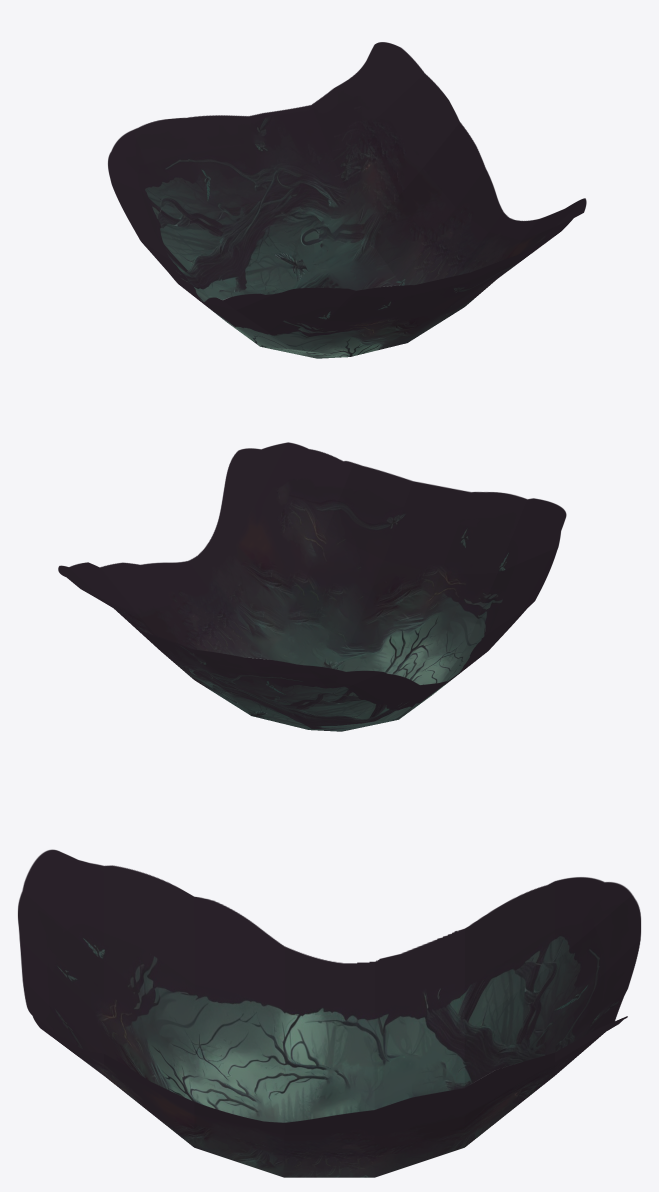
The model's file is mainPageBackground.glb.
The picture shows the model from 3 angles, top to bottom: view 1: azimuth 30°, elevation 25°; view 2: azimuth 150°, elevation 25°; view 3: azimuth 270°, elevation 25°; orthographic projection. The views are drawn at different scales.
Parts seen in each view (by area): view 1: MainPageBackground; view 2: MainPageBackground; view 3: MainPageBackground.
Boxes of the visible parts, <box> form: MainPageBackground: <box>108,42,586,358</box>; MainPageBackground: <box>58,442,566,731</box>; MainPageBackground: <box>17,849,641,1177</box>.
Size of the model in its own units: 1 by 0.4589 by 1.
Materials: 1 (1 with a texture image).
